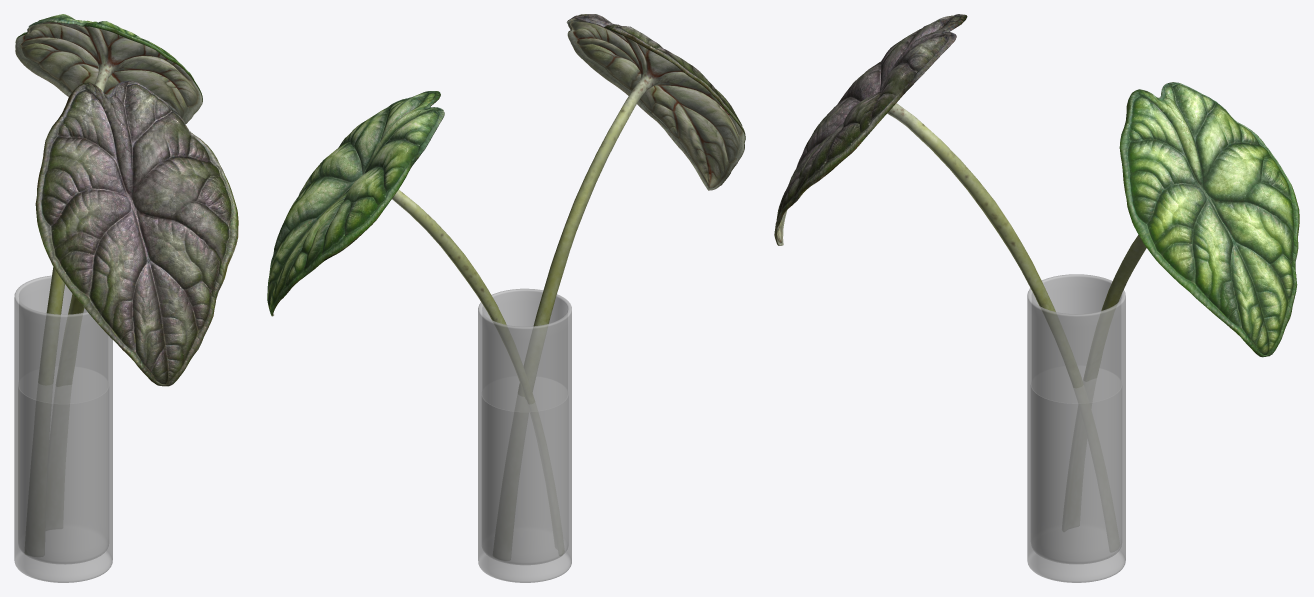
File: alocasia.glb
3 views of the same model, side by side, from view 1: azimuth 30°, elevation 25°; view 2: azimuth 150°, elevation 25°; view 3: azimuth 270°, elevation 25° (orthographic). The views are drawn at different scales.
Visible parts, largest first — view 1: AlokasiaLeaf01, Glass, water, AlokasiaLeaf02; view 2: Glass, AlokasiaLeaf02, AlokasiaLeaf01, water; view 3: AlokasiaLeaf02, Glass, water, AlokasiaLeaf01.
Part boxes in pixels (left/top/right/bottom): AlokasiaLeaf01: left=35, top=80, right=238, bottom=386; Glass: left=14, top=275, right=112, bottom=582; water: left=18, top=382, right=108, bottom=564; AlokasiaLeaf02: left=15, top=14, right=202, bottom=555; Glass: left=478, top=288, right=571, bottom=582; AlokasiaLeaf02: left=267, top=91, right=564, bottom=555; AlokasiaLeaf01: left=518, top=14, right=745, bottom=396; water: left=482, top=391, right=568, bottom=564; AlokasiaLeaf02: left=1083, top=82, right=1299, bottom=381; Glass: left=1027, top=274, right=1125, bottom=582; water: left=1031, top=381, right=1121, bottom=563; AlokasiaLeaf01: left=774, top=14, right=1083, bottom=388.
Bounding box in the file's own units: 0.3194 × 0.5216 × 0.4679.
4 materials, 2 textured.
